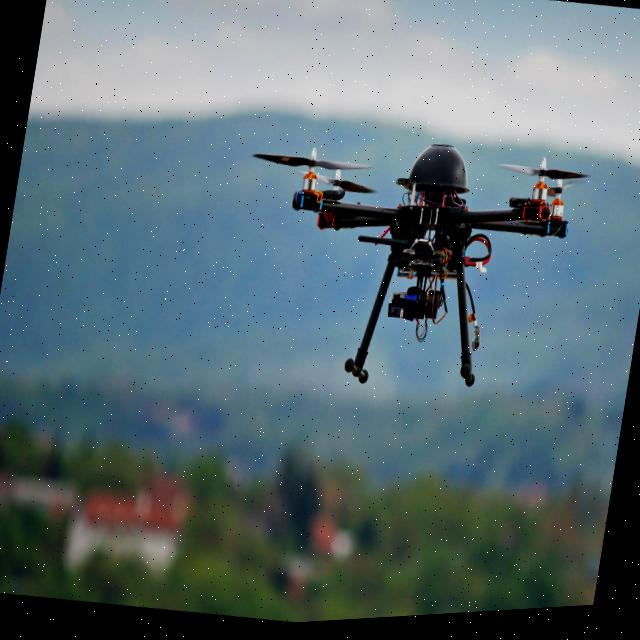drone: (202, 64, 610, 444)
